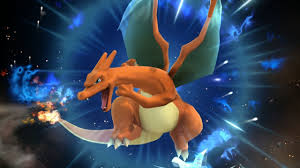charizard: (29, 1, 228, 162)
